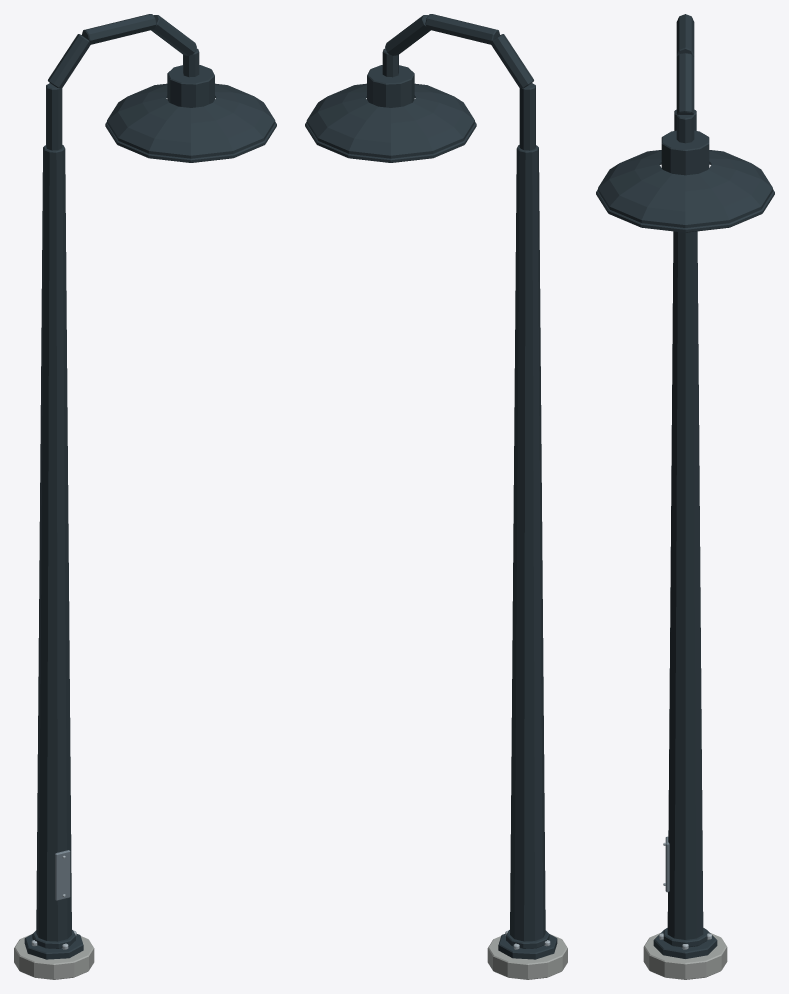
File: b18_gooseneck_industrial_post_light.glb
3 views of the same model, side by side, from view 1: azimuth 30°, elevation 25°; view 2: azimuth 150°, elevation 25°; view 3: azimuth 270°, elevation 25° (orthographic). The views are drawn at different scales.
Parts seen in each view (by area): view 1: b18_gooseneck_industrial_post_light; view 2: b18_gooseneck_industrial_post_light; view 3: b18_gooseneck_industrial_post_light.
Part boxes in pixels (box(x1,y1,x2,y2)): b18_gooseneck_industrial_post_light: box(14, 14, 276, 979); b18_gooseneck_industrial_post_light: box(305, 14, 567, 979); b18_gooseneck_industrial_post_light: box(596, 14, 774, 979).
Bounding box in the file's own units: 1.42 × 5.1 × 0.8568.
